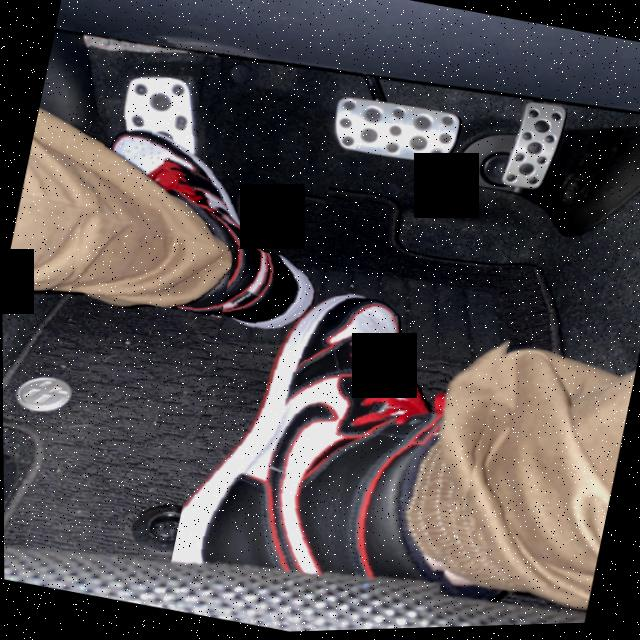shoe: (157, 241, 523, 636), (59, 99, 337, 339)
